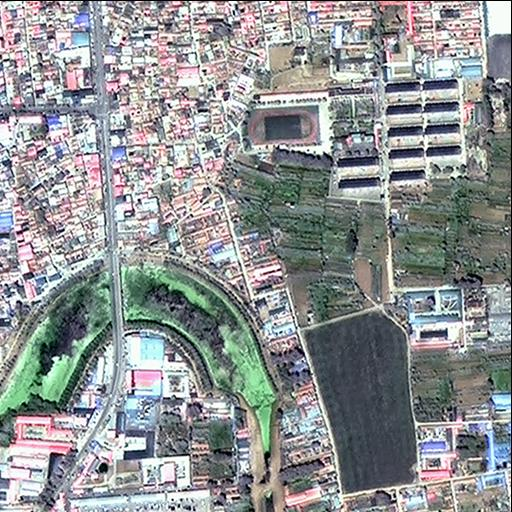school: (244, 83, 384, 150)
